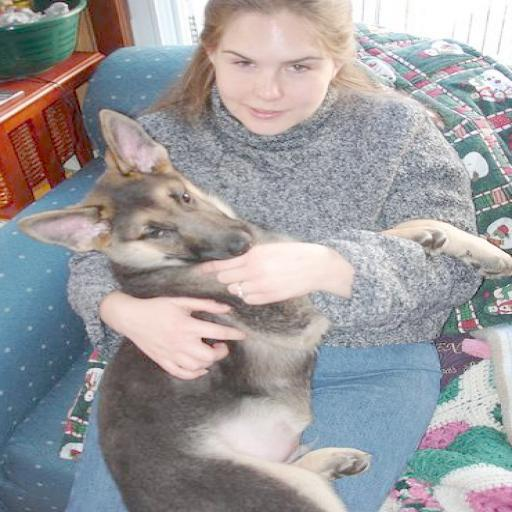dog_face: (28, 118, 242, 284)
